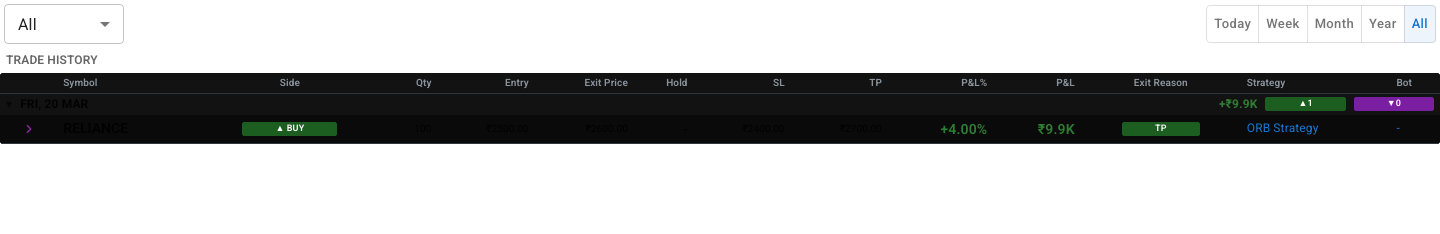
Test: PaperHistoryTable › source filter (books) › does not offer a Futures book when no futures trade is present
The image size is (1440, 234).
Press the mouse on the dropdown at x=27, y=24, box [18,14,37,34]
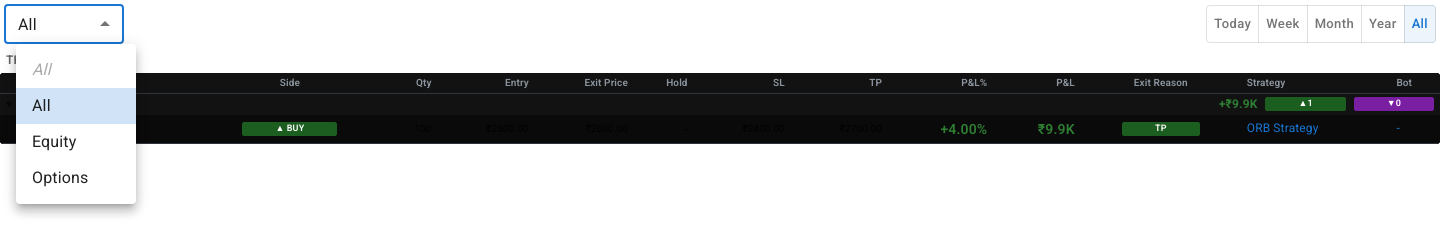
Result: the option "Options" is shown at [32,168,88,187]
